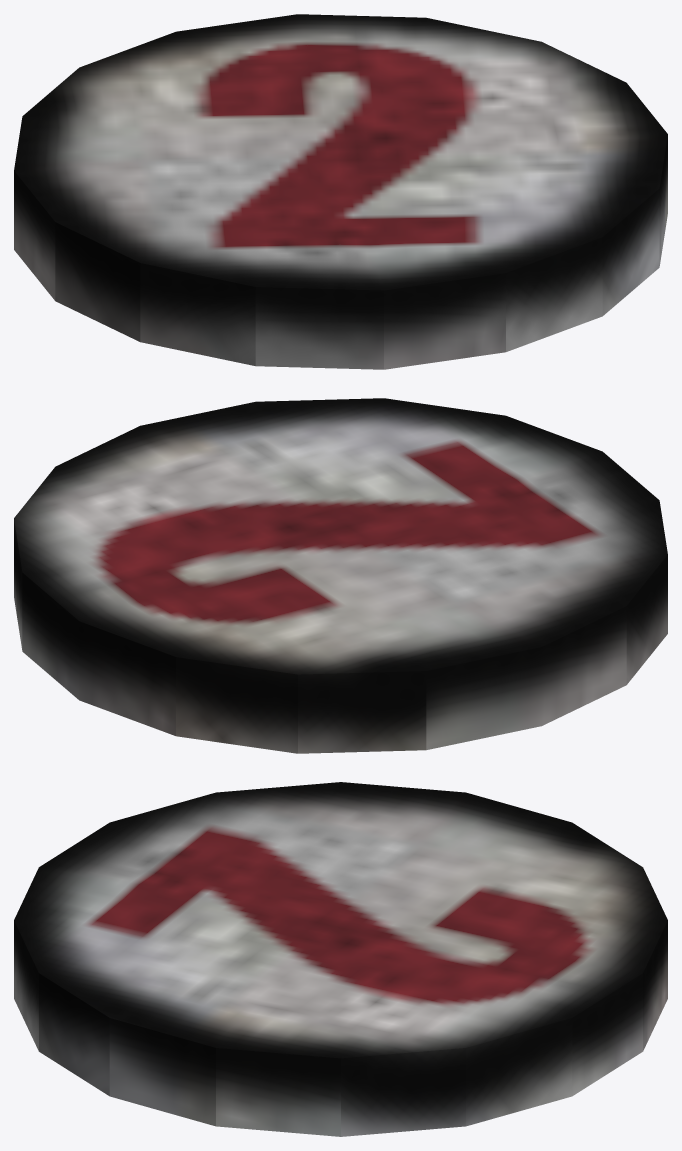
The model's file is button_2.fbx.
The picture shows the model from 3 angles, top to bottom: view 1: azimuth 30°, elevation 25°; view 2: azimuth 150°, elevation 25°; view 3: azimuth 270°, elevation 25°; orthographic projection.
Visible parts, largest first — view 1: Circle.007; view 2: Circle.007; view 3: Circle.007.
Boxes of the visible parts, bbox=[...] form: Circle.007: bbox=[14, 14, 667, 369]; Circle.007: bbox=[14, 398, 667, 753]; Circle.007: bbox=[14, 782, 667, 1136].
Size of the model in its own units: 200 by 26.5 by 200.
Materials: 1 (1 with a texture image).
